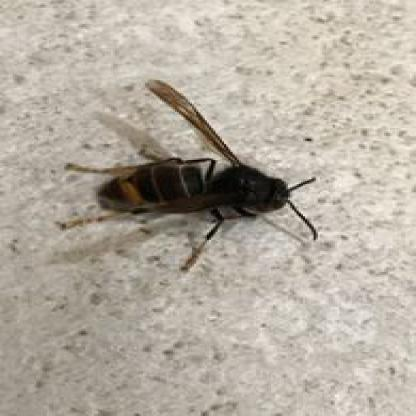Asian Hornet: (81, 72, 345, 238)
